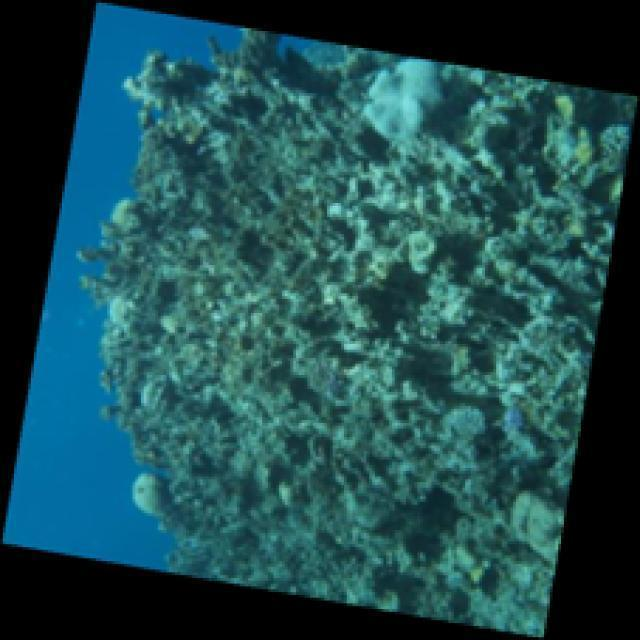Dead Coral: (214, 249, 575, 486), (113, 25, 317, 211), (331, 59, 506, 228)
